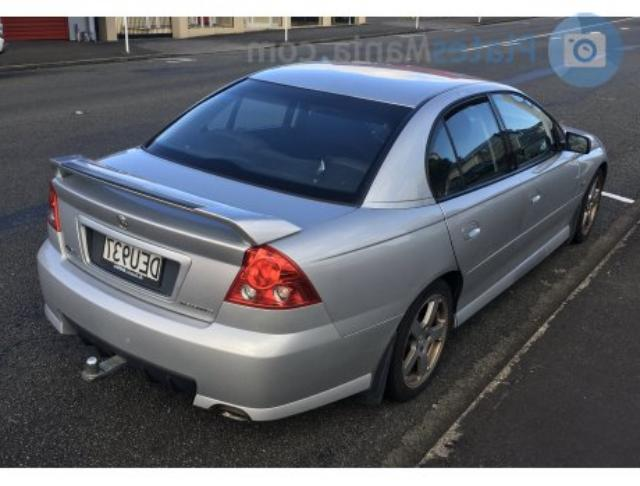Rego: (100, 235, 163, 288)
